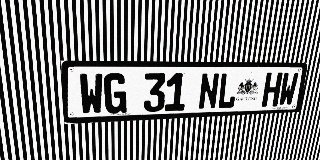1: (165, 73, 187, 111)
3: (144, 73, 166, 112)
G: (104, 73, 127, 114)
H: (261, 73, 283, 107)
L: (217, 73, 239, 109)
N: (198, 73, 220, 110)
W: (79, 73, 104, 115), (278, 72, 299, 106)
